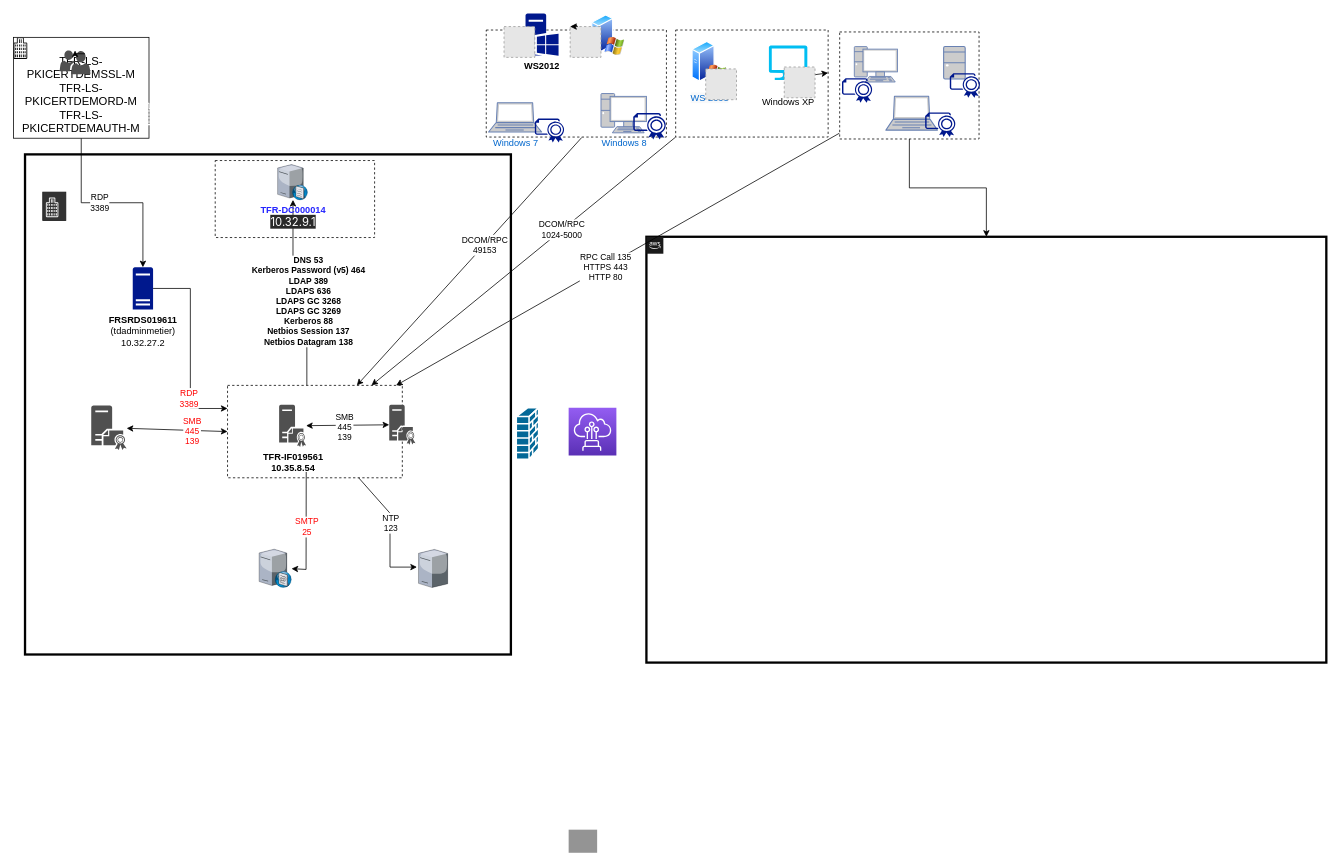
This 1341x865 diagram has some shape labels left out. Grey dashed boxes stand in for pictures. Here are the shapes that lost their labels. From the top down, the centre of each, then its label:
point (607, 34): WS2008
point (108, 427): TFR-IF019563 10.32.8.132
point (402, 424): TFR-IF019562 10.35.8.55
point (275, 567): FRSINF021625 (relai SMTP) 10.32.9.8
point (432, 568): FRSINF021071 10.32.4.2
